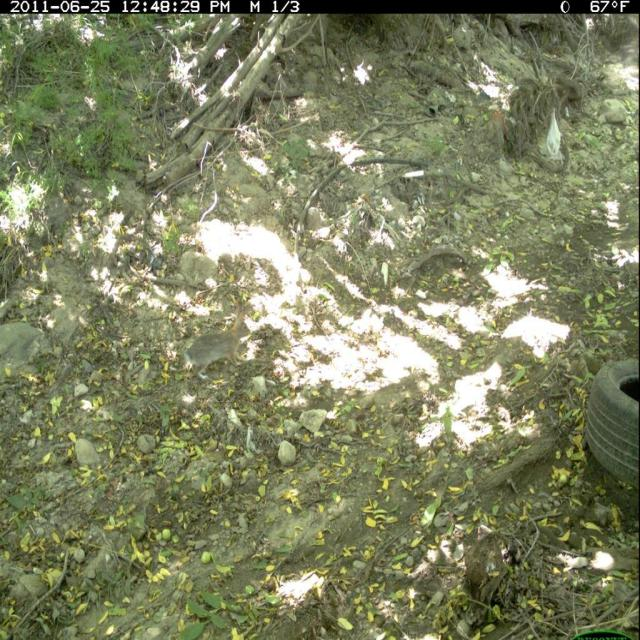rabbit: (177, 292, 261, 389)
